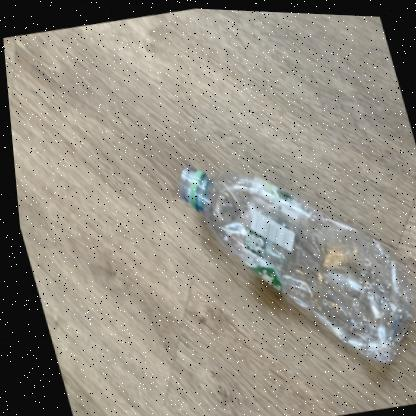Plastic: (177, 163, 409, 358)
